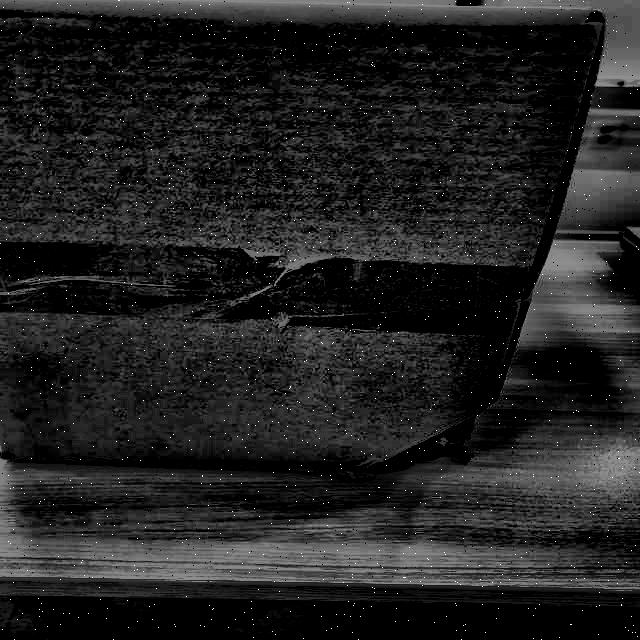box: (1, 0, 624, 491)
hole: (360, 394, 490, 464)
